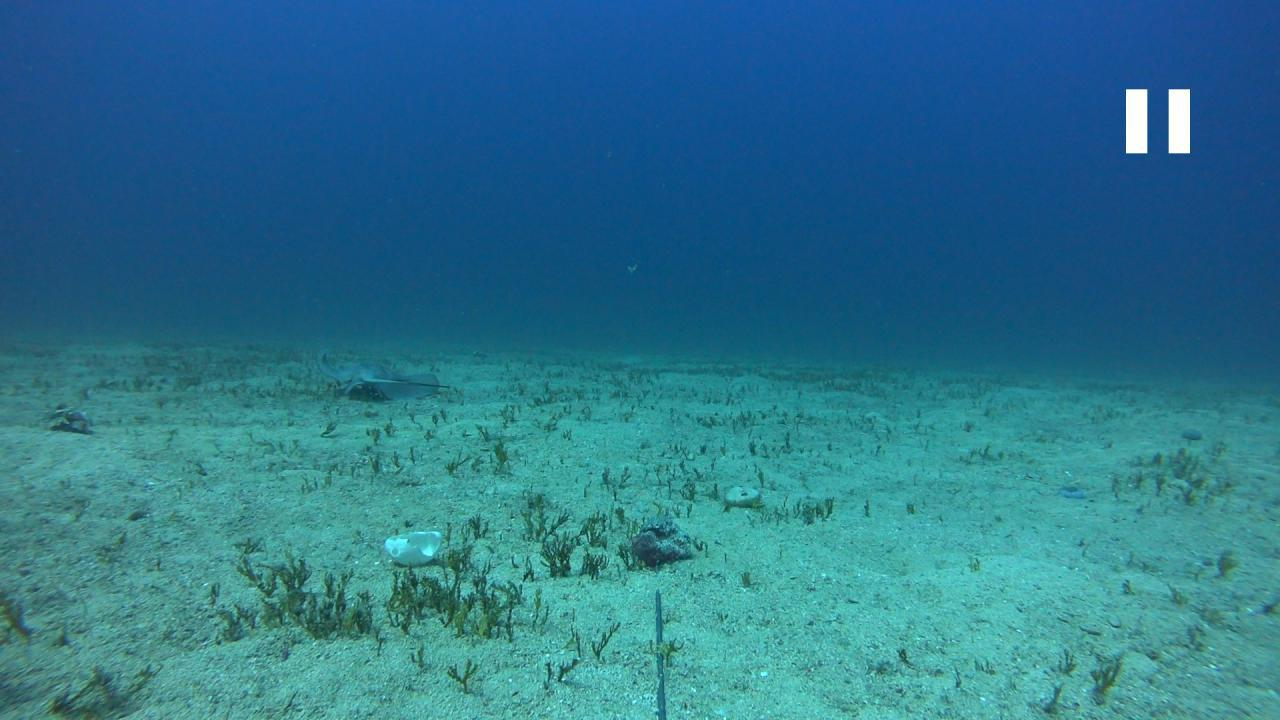dasyatis: (312, 350, 450, 400)
